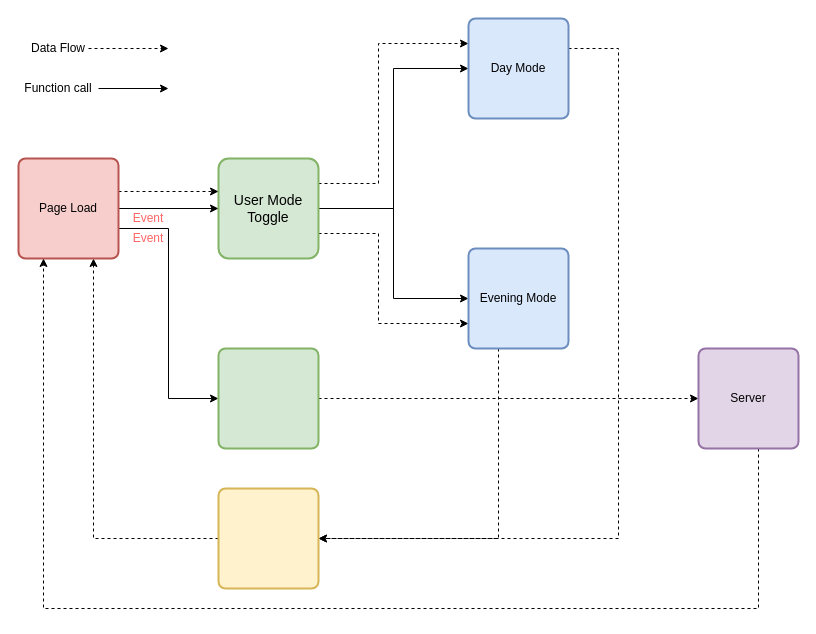
Some shapes in this 816 by 634 pixel diagram are drawn without their labels. Each missing label, with the centre of its shape:
"Form input" goes at point (268, 398).
"Local Storage" goes at point (268, 538).
